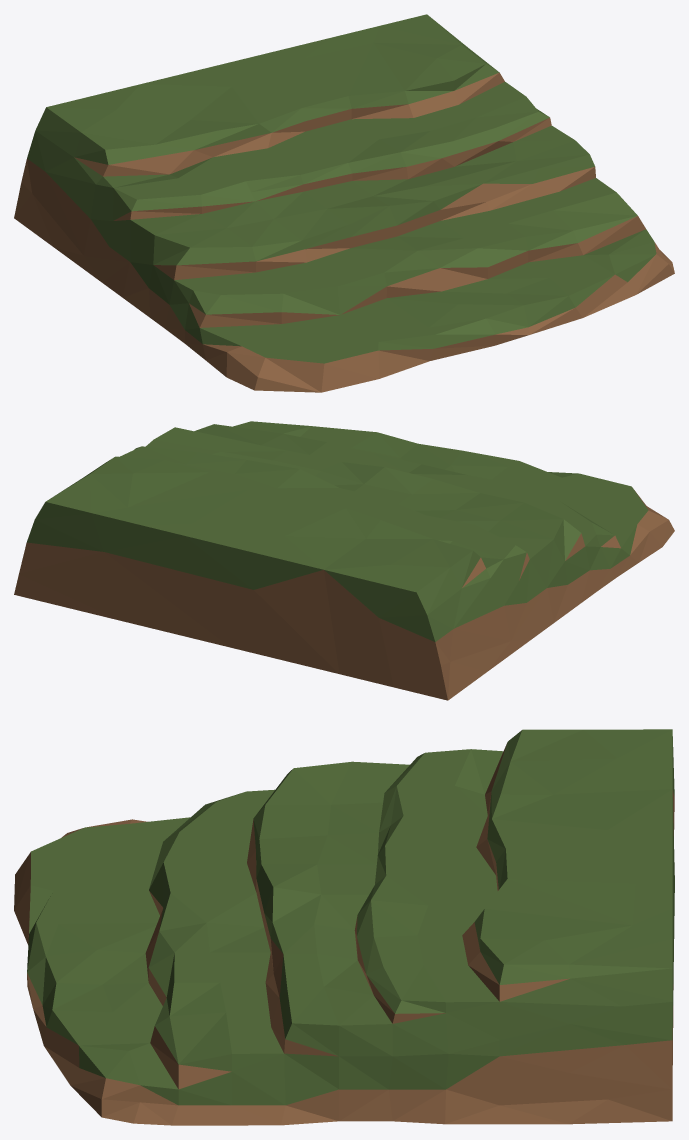
File: Hill_2_1 Asia.fbx
3 views of the same model, one above another, from view 1: azimuth 30°, elevation 25°; view 2: azimuth 150°, elevation 25°; view 3: azimuth 270°, elevation 25° (orthographic). The views are drawn at different scales.
Visible parts, largest first — view 1: Hill_2_1; view 2: Hill_2_1; view 3: Hill_2_1.
Part boxes in pixels (x1,y1,x2,y2): Hill_2_1: (14, 14, 674, 392); Hill_2_1: (14, 421, 674, 700); Hill_2_1: (14, 729, 674, 1125).
Size of the model in its own units: 21.57 by 4.77 by 21.08.
